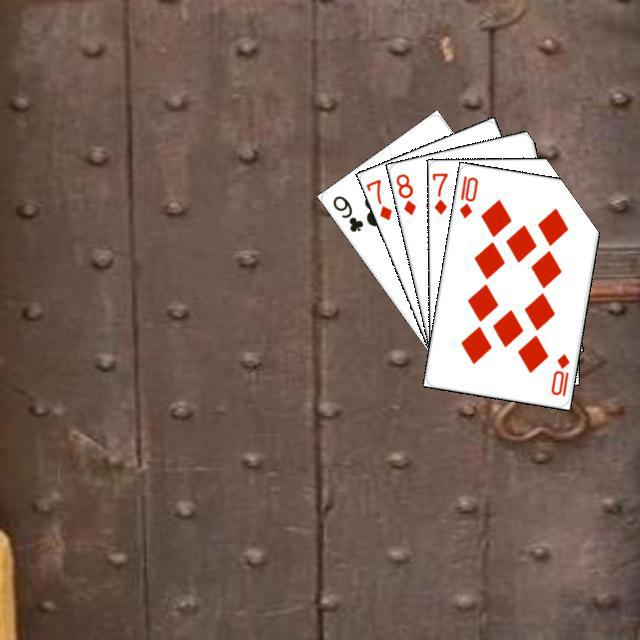10d: (454, 171, 480, 220), (546, 349, 571, 398)
7d: (362, 174, 394, 222), (429, 168, 449, 216)
8d: (391, 169, 418, 217)
9c: (328, 190, 365, 234)
